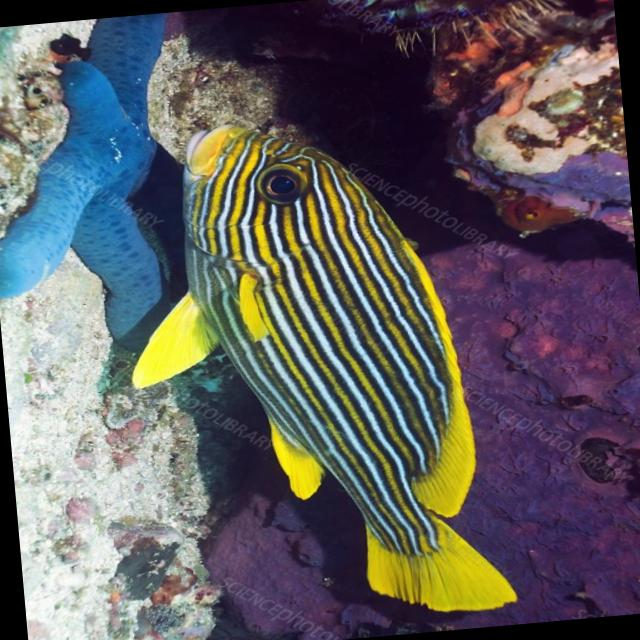RibbonedSweetlips: (108, 100, 522, 640)
